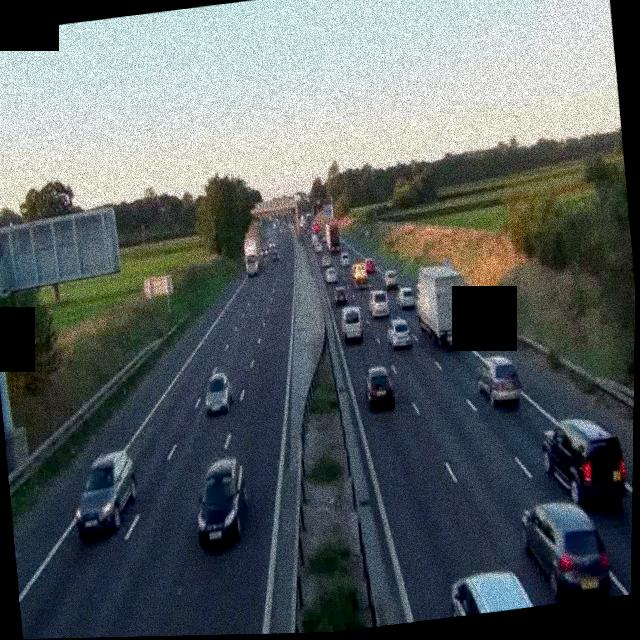car: (519, 495, 614, 605), (539, 412, 630, 512), (70, 449, 142, 538), (190, 455, 253, 550), (449, 563, 544, 616), (474, 352, 522, 406), (362, 363, 395, 409), (202, 371, 232, 415), (339, 304, 364, 343), (386, 316, 413, 349), (368, 291, 389, 317), (396, 285, 417, 310), (333, 282, 350, 305), (383, 268, 400, 291), (352, 262, 368, 285), (325, 265, 339, 284), (362, 256, 377, 273), (339, 253, 352, 269), (320, 251, 332, 266)
truck: (411, 259, 472, 348), (243, 232, 264, 274), (324, 219, 342, 250)
